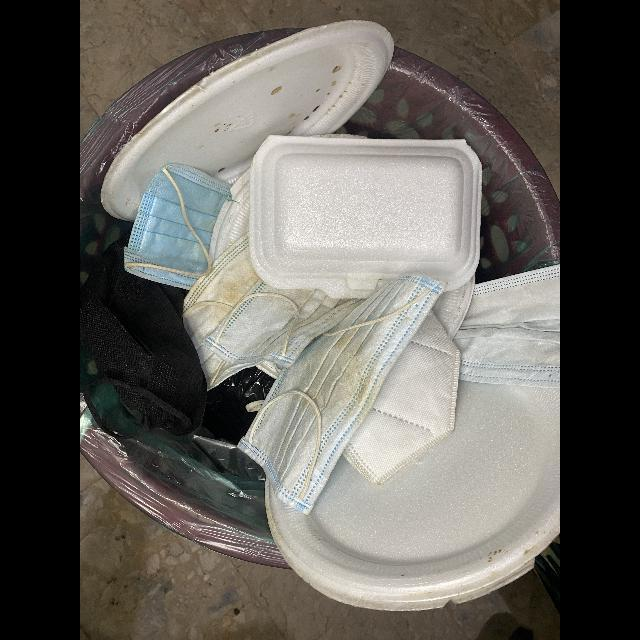styrofoam: (264, 380, 560, 612), (99, 20, 394, 222), (248, 136, 482, 300)
